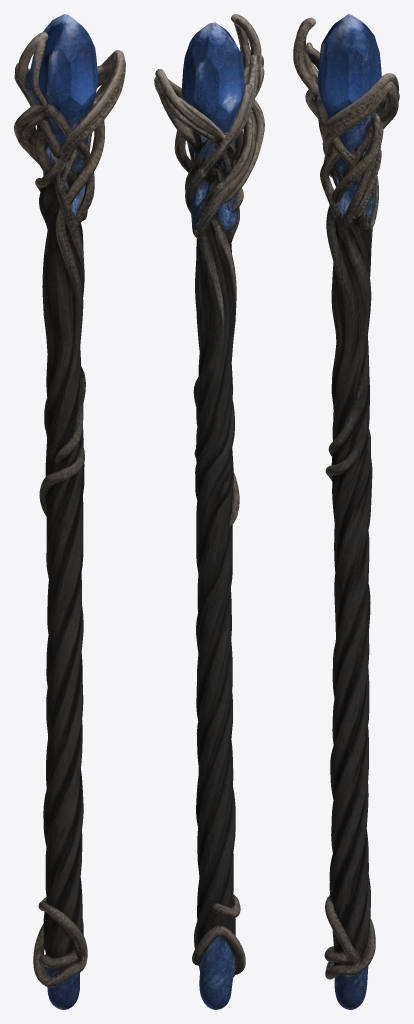
File: hul.glb
3 renders of one model, left to right at view 1: azimuth 30°, elevation 25°; view 2: azimuth 210°, elevation 25°; view 3: azimuth 330°, elevation 25°, orthographic.
Parts seen in each view (by area): view 1: Mesh_0; view 2: Mesh_0; view 3: Mesh_0.
Boxes of the visible parts, x1,y1,x2,y2 form: Mesh_0: (14,14,125,1009); Mesh_0: (154,14,264,1009); Mesh_0: (293,14,399,1009).
Size of the model in its own units: 0.1756 by 1.65 by 0.1309.
Materials: 1 (1 with a texture image).
